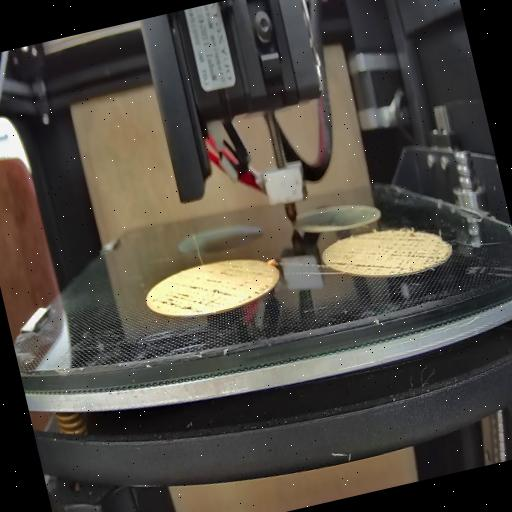under_extrusion: (148, 258, 272, 320), (326, 220, 442, 286)
